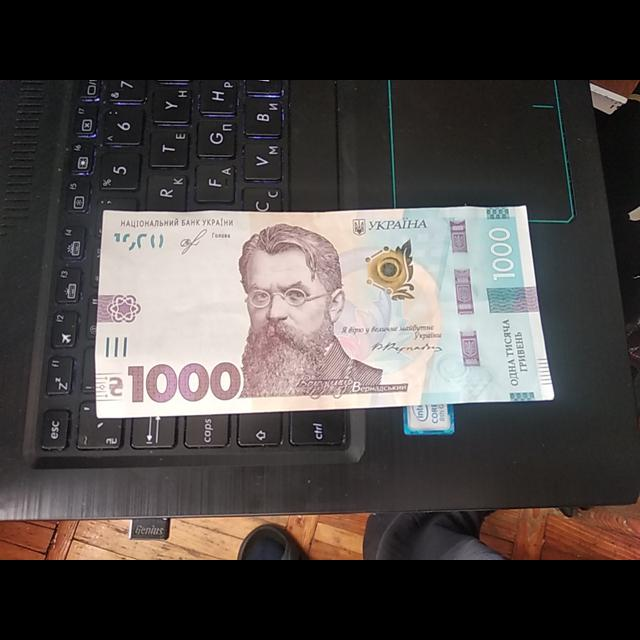1000uah: (94, 205, 555, 419)
